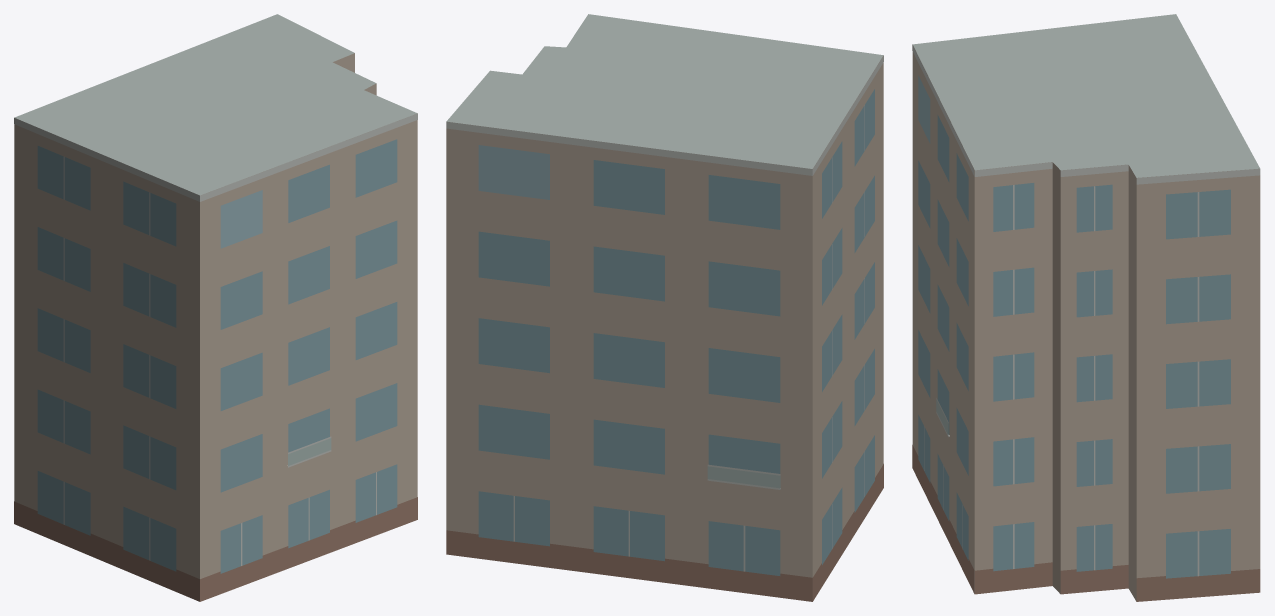
Rendered from survey-upis-32931793.glb.
3 renders of one model, left to right at view 1: azimuth 30°, elevation 25°; view 2: azimuth 150°, elevation 25°; view 3: azimuth 270°, elevation 25°, orthographic. The views are drawn at different scales.
Visible parts, largest first — view 1: survey-upis-32931793.tmp; view 2: survey-upis-32931793.tmp; view 3: survey-upis-32931793.tmp.
Part boxes in pixels (x1,y1,x2,y2): survey-upis-32931793.tmp: [14, 14, 417, 601]; survey-upis-32931793.tmp: [446, 14, 883, 601]; survey-upis-32931793.tmp: [912, 14, 1260, 601].
Bounding box in the file's own units: 12.65 × 15.25 × 11.34.
